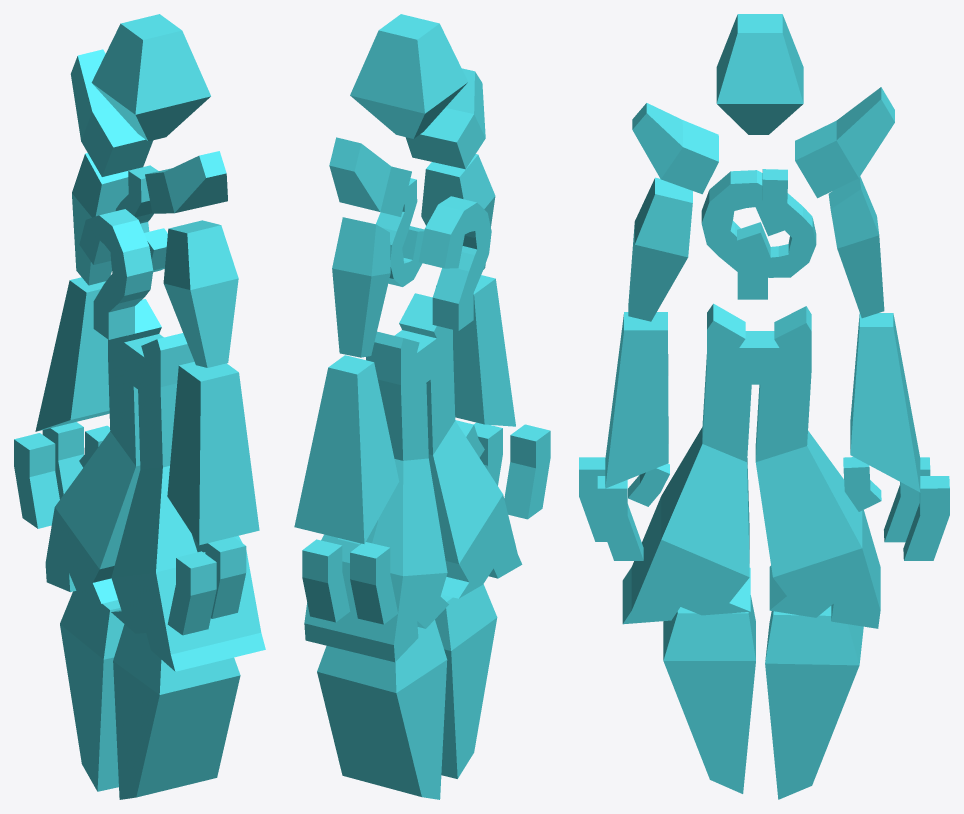
File: Warenn.fbx
3 views of the same model, side by side, from view 1: azimuth 30°, elevation 25°; view 2: azimuth 150°, elevation 25°; view 3: azimuth 270°, elevation 25° (orthographic).
Visible parts, largest first — view 1: Cube, Cube.007, Cube.008, Warenn, Cube.005, Cube.004, Cube.002, Cube.001, Cube.006, Cube.003; view 2: Cube, Cube.007, Warenn, Cube.008, Cube.005, Cube.002, Cube.003, Cube.004, Cube.006, Cube.001; view 3: Cube, Cube.007, Warenn, Cube.008, Cube.005, Cube.006, Cube.003, Cube.001, Cube.004, Cube.002.
Boxes of the visible parts, box(x1,y1,x2,y2) form: Cube: box(35, 14, 259, 552); Cube.007: box(45, 299, 265, 671); Cube.008: box(113, 624, 240, 799); Warenn: box(60, 590, 124, 791); Cube.005: box(79, 209, 153, 339); Cube.004: box(14, 433, 59, 528); Cube.002: box(167, 551, 216, 635); Cube.001: box(205, 537, 246, 618); Cube.006: box(115, 165, 167, 272); Cube.003: box(42, 422, 83, 499); Cube: box(294, 14, 515, 544); Cube.007: box(304, 293, 522, 662); Warenn: box(317, 620, 447, 799); Cube.008: box(435, 584, 497, 778); Cube.005: box(418, 196, 491, 330); Cube.002: box(504, 424, 550, 519); Cube.003: box(302, 539, 350, 622); Cube.004: box(350, 542, 397, 624); Cube.006: box(376, 178, 424, 286); Cube.001: box(474, 422, 502, 485); Cube: box(605, 14, 920, 511); Cube.007: box(622, 303, 880, 628); Warenn: box(765, 606, 863, 799); Cube.008: box(663, 595, 755, 793); Cube.005: box(701, 170, 784, 299); Cube.006: box(737, 169, 816, 277); Cube.003: box(903, 476, 949, 560); Cube.001: box(597, 476, 643, 560); Cube.004: box(884, 457, 930, 542); Cube.002: box(579, 457, 606, 541).
Size of the model in its own units: 177 by 1301 by 577.
